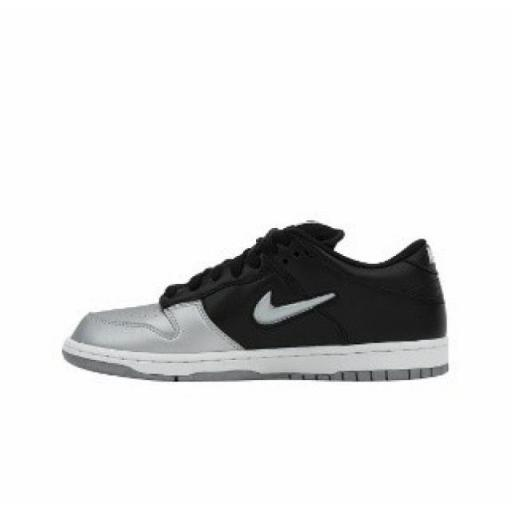Nike: (246, 284, 342, 330)
